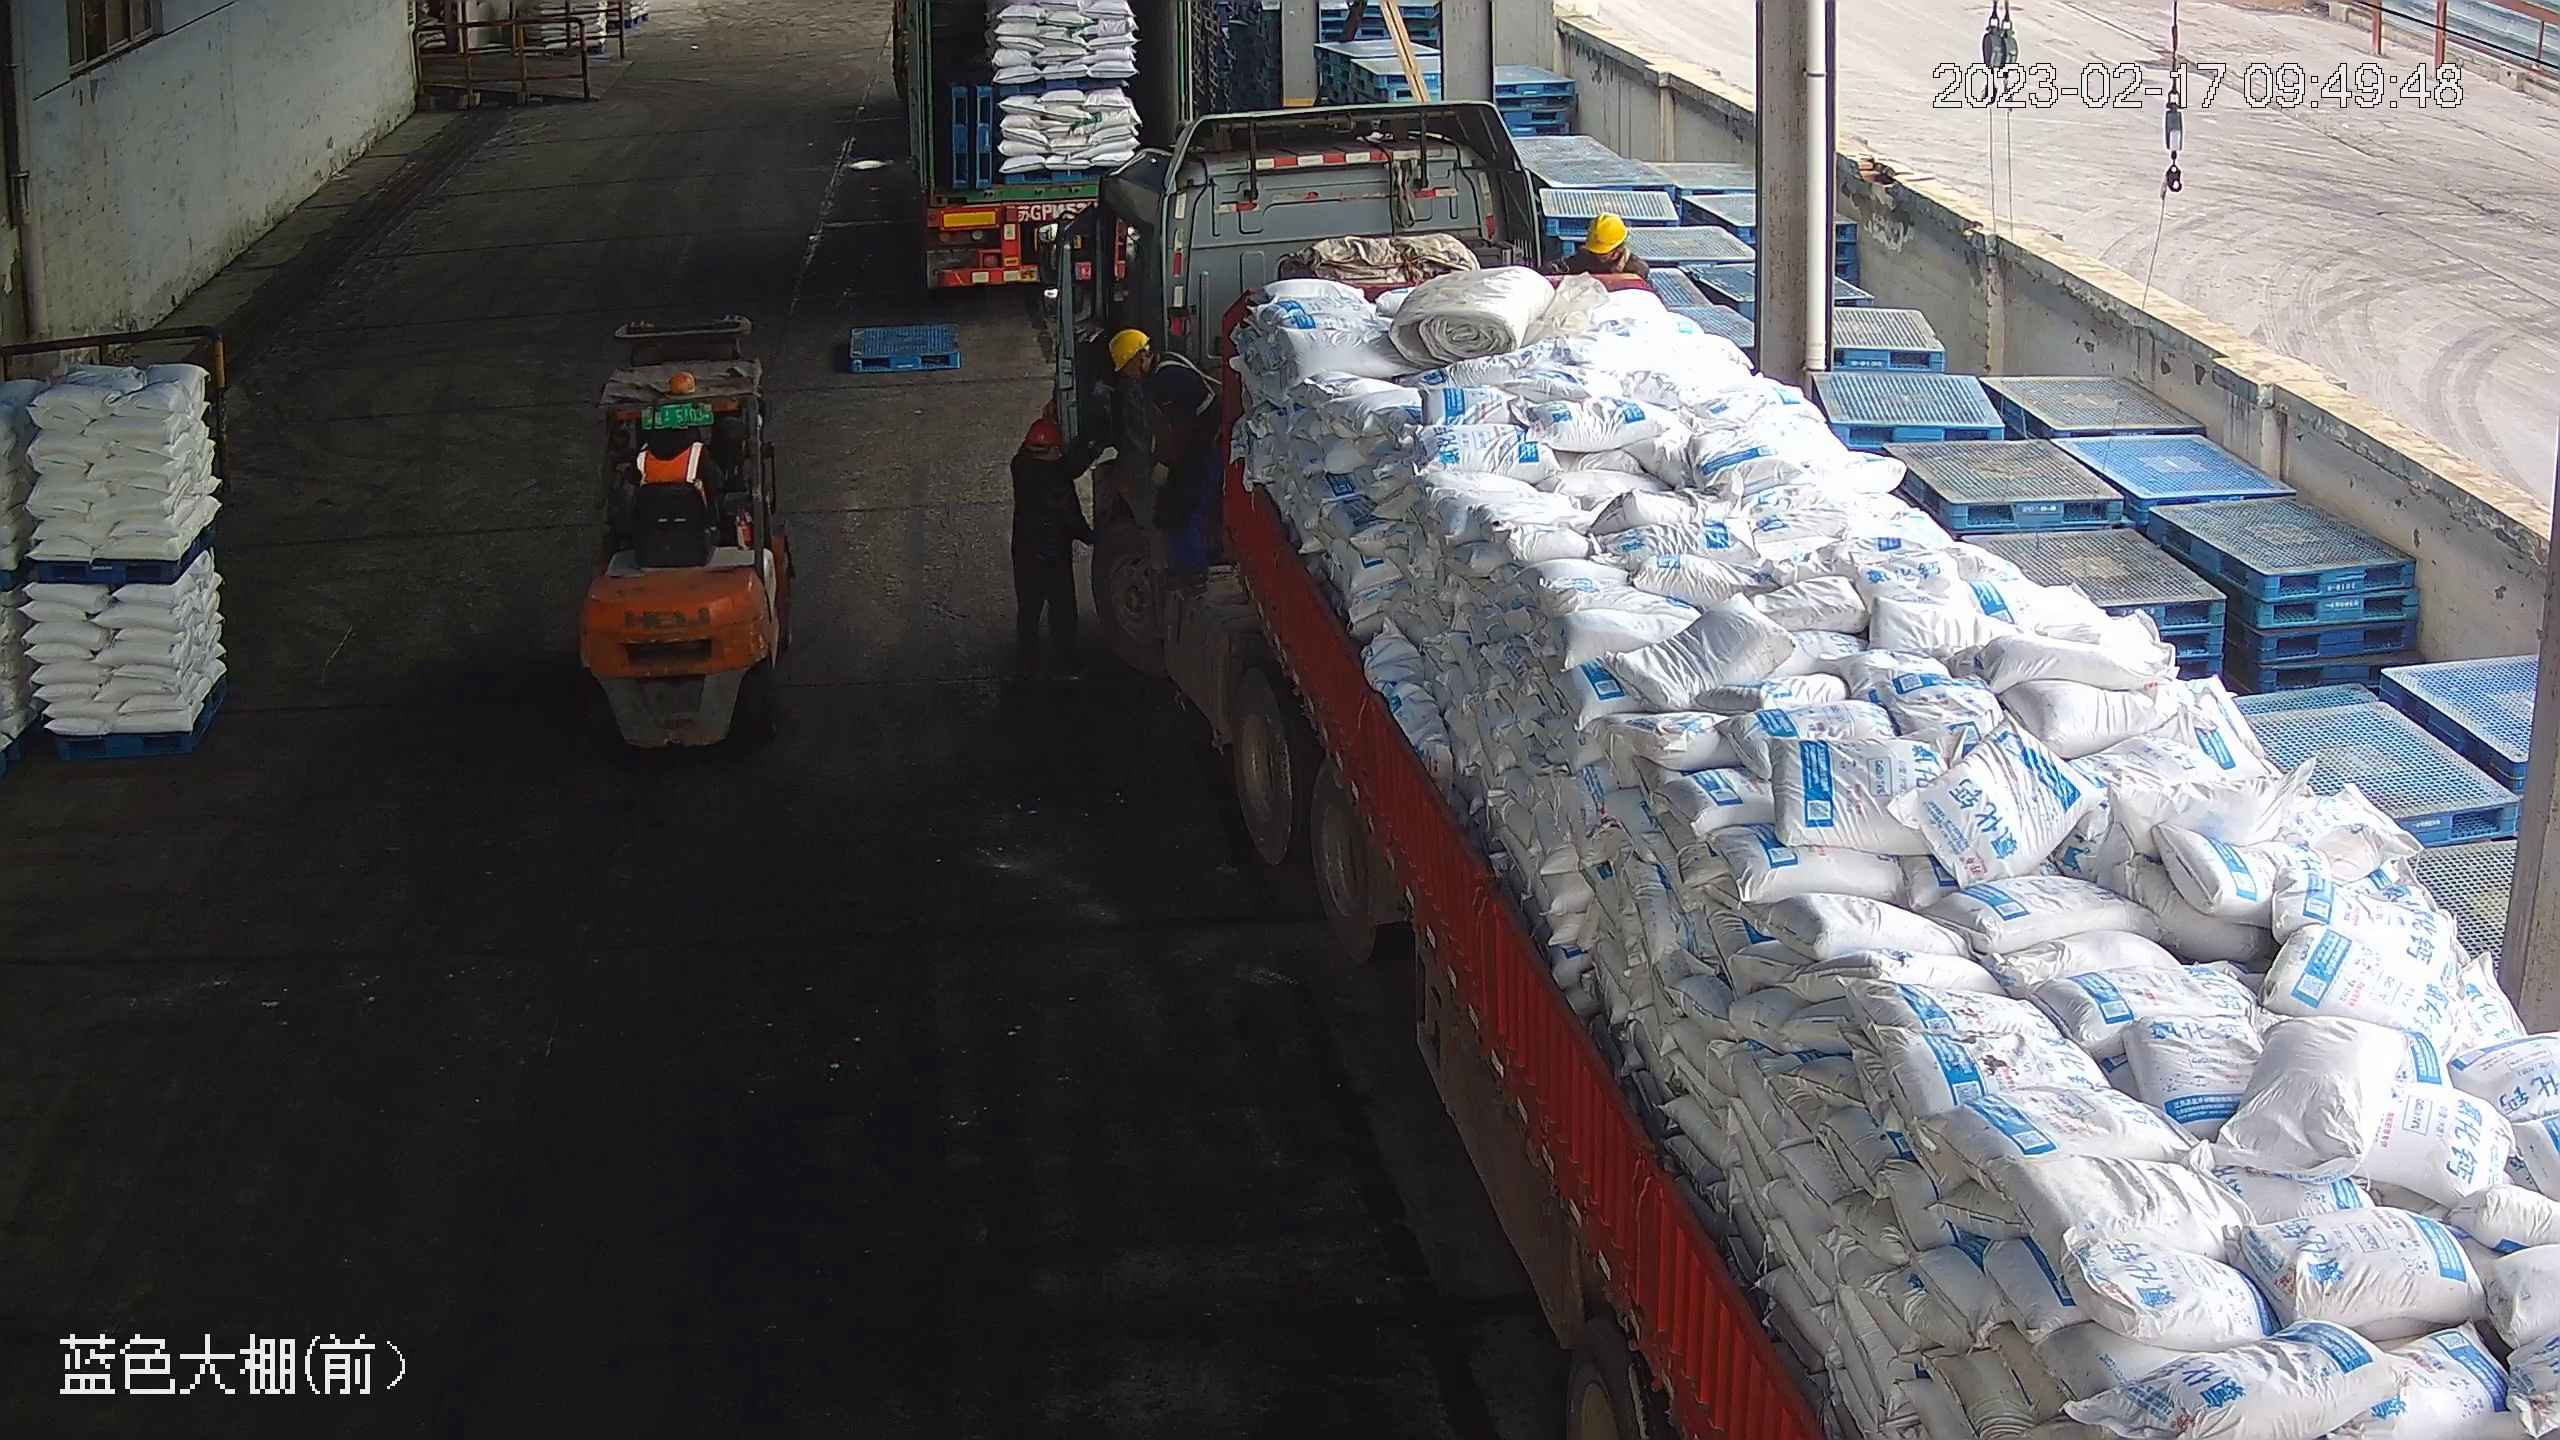belt: (1154, 347, 1213, 425), (1592, 246, 1638, 284)
head: (1107, 327, 1199, 416), (1567, 209, 1644, 280), (1012, 413, 1073, 494)
helmet: (1105, 327, 1150, 369), (1588, 209, 1629, 253), (1025, 414, 1062, 446)
people: (1100, 325, 1233, 586), (1009, 406, 1099, 670)
truck: (1023, 114, 2557, 1440), (880, 1, 1208, 277)
